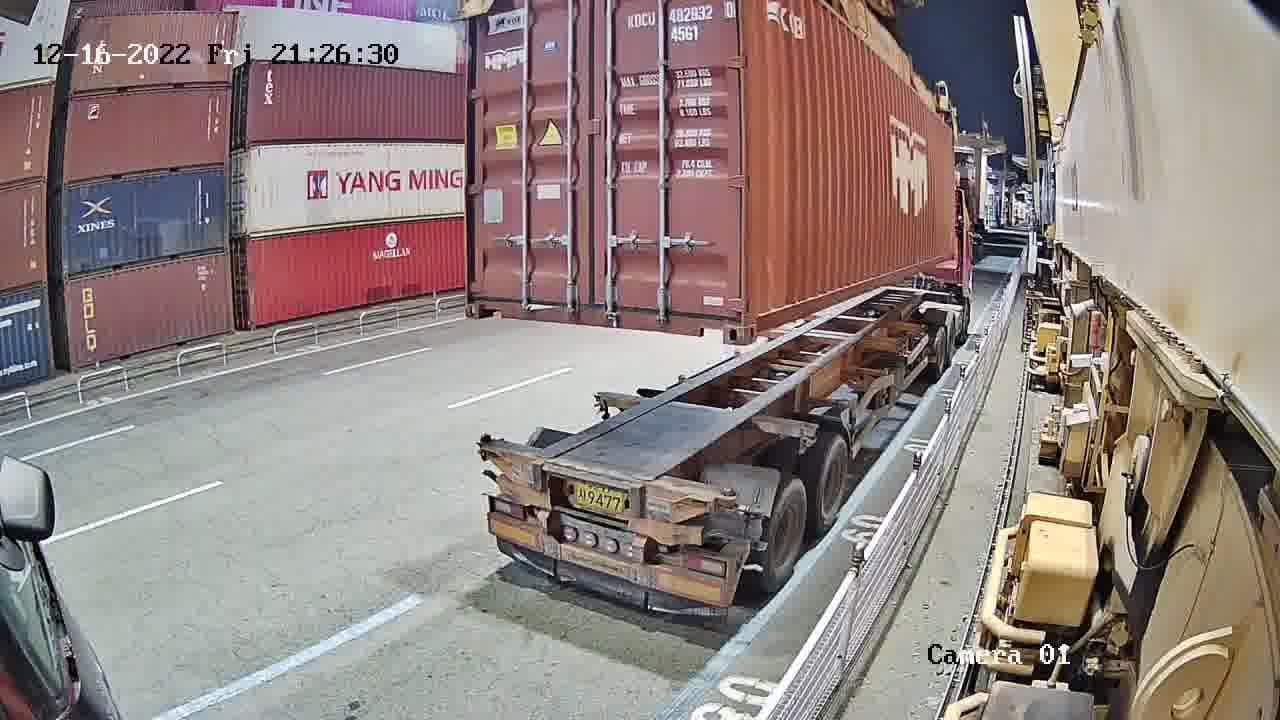Chassis: (479, 446, 730, 547)
Cone: (718, 484, 736, 515), (479, 428, 494, 465)
Hole_L: (743, 288, 783, 347), (465, 277, 505, 321)
Hole_R: (689, 293, 743, 345)
Tire: (766, 484, 810, 585), (817, 439, 851, 532)
